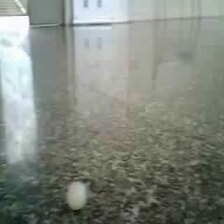w: (66, 179, 89, 212)
